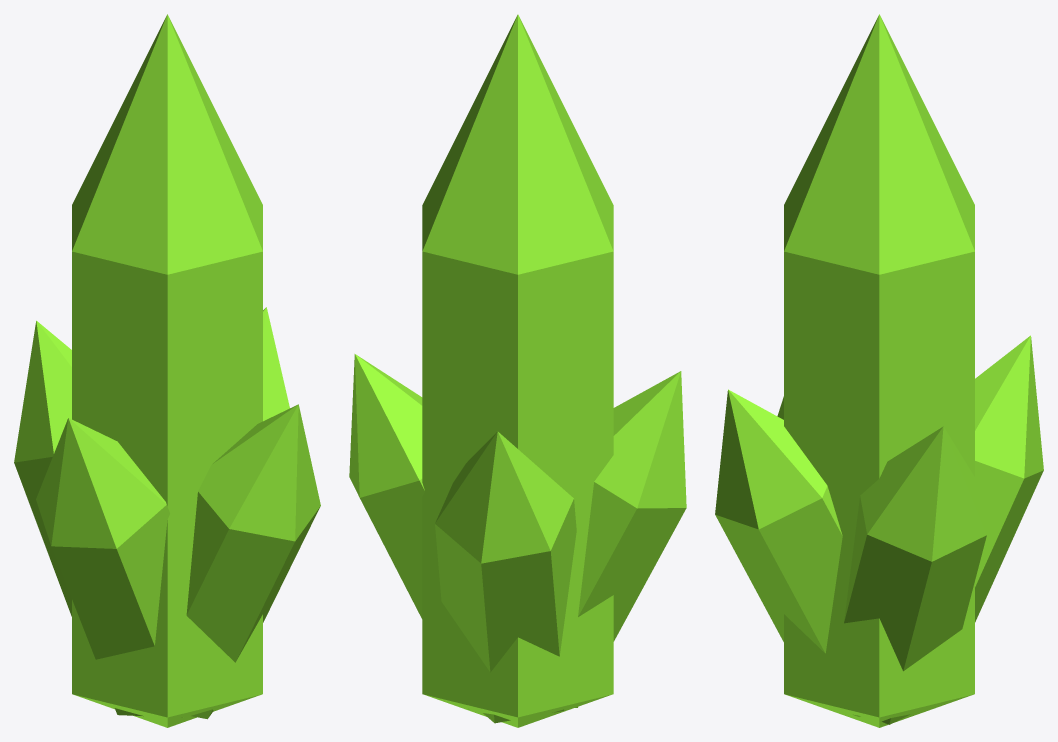
File: Gema_Mitico.fbx
3 renders of one model, left to right at view 1: azimuth 30°, elevation 25°; view 2: azimuth 150°, elevation 25°; view 3: azimuth 270°, elevation 25°, orthographic.
Parts seen in each view (by area): view 1: Gema_Mitico; view 2: Gema_Mitico; view 3: Gema_Mitico.
Boxes of the visible parts, x1,y1,x2,y2 form: Gema_Mitico: [14, 14, 320, 727]; Gema_Mitico: [349, 14, 686, 727]; Gema_Mitico: [715, 14, 1043, 727].
Size of the model in its own units: 0.2338 by 0.56 by 0.2338.
